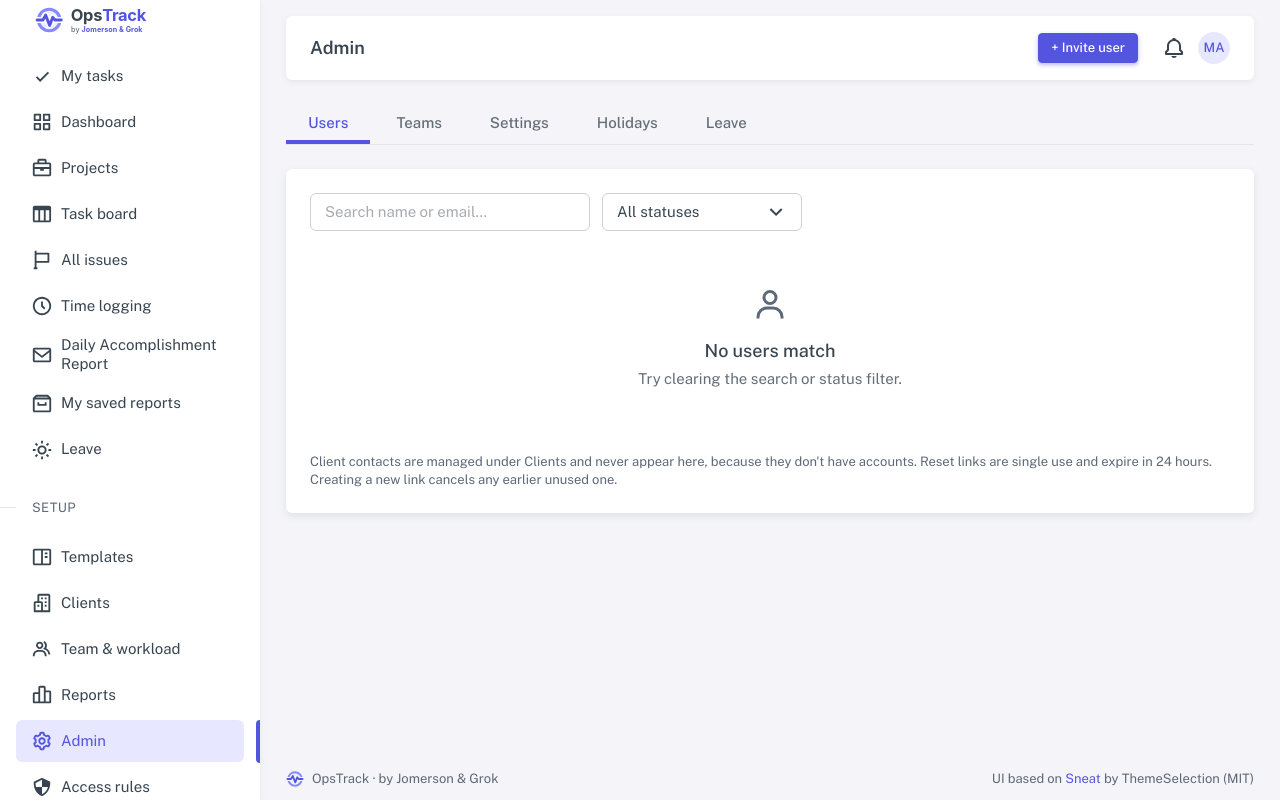
Test case: Design review M1 follow-ups (DR-05, DR-06) › DR-06 the invite modal uses the standard header with × inside it
Click the button "+ Invite user": (1088, 48) x1=1038 y1=33 x2=1138 y2=63
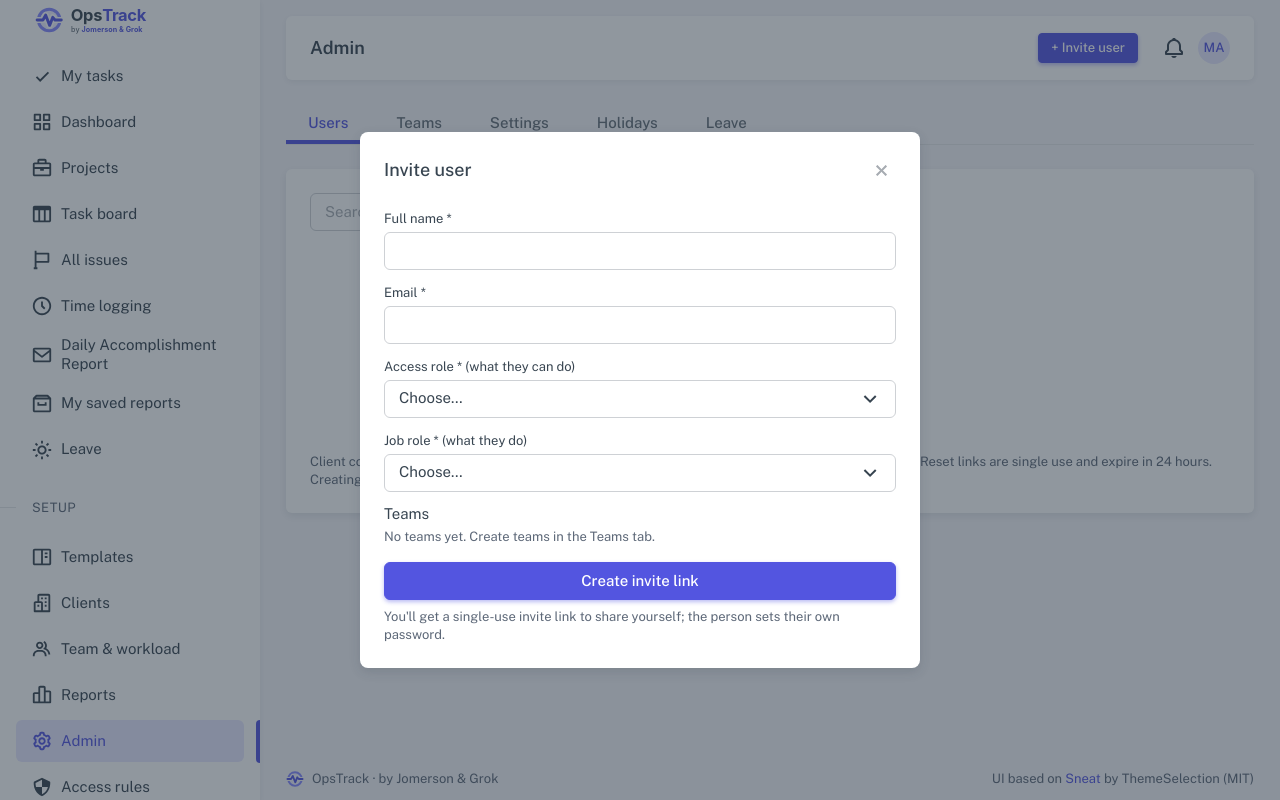
Check: the element named "Close" is shown, box x1=384 y1=156 x2=896 y2=184
Check: the heading "Invite user" is shown, box x1=384 y1=158 x2=472 y2=183
